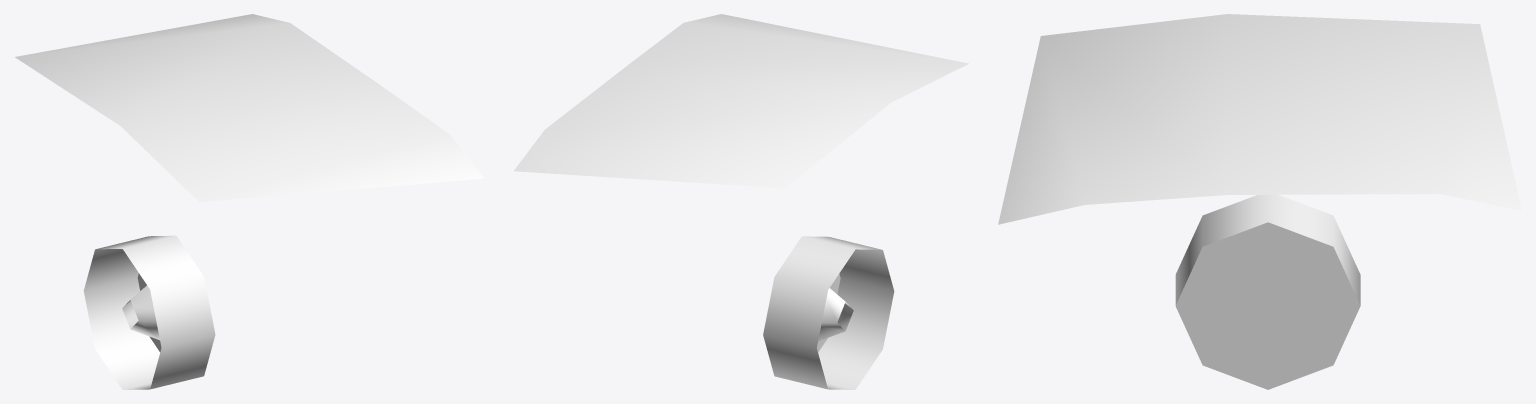
3 renders of one model, left to right at view 1: azimuth 30°, elevation 25°; view 2: azimuth 150°, elevation 25°; view 3: azimuth 270°, elevation 25°, orthographic. The views are drawn at different scales.
Size of the model in its own units: 0.2987 by 0.2982 by 0.4242.
1 material, 1 textured.
